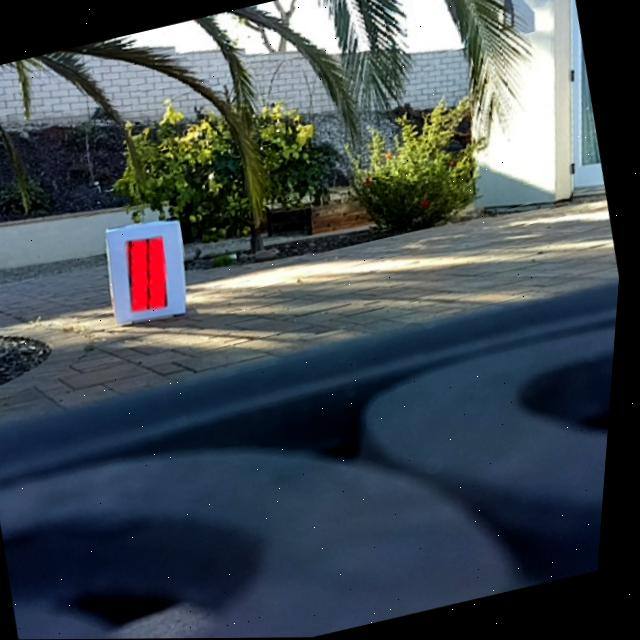led: (122, 232, 181, 315)
